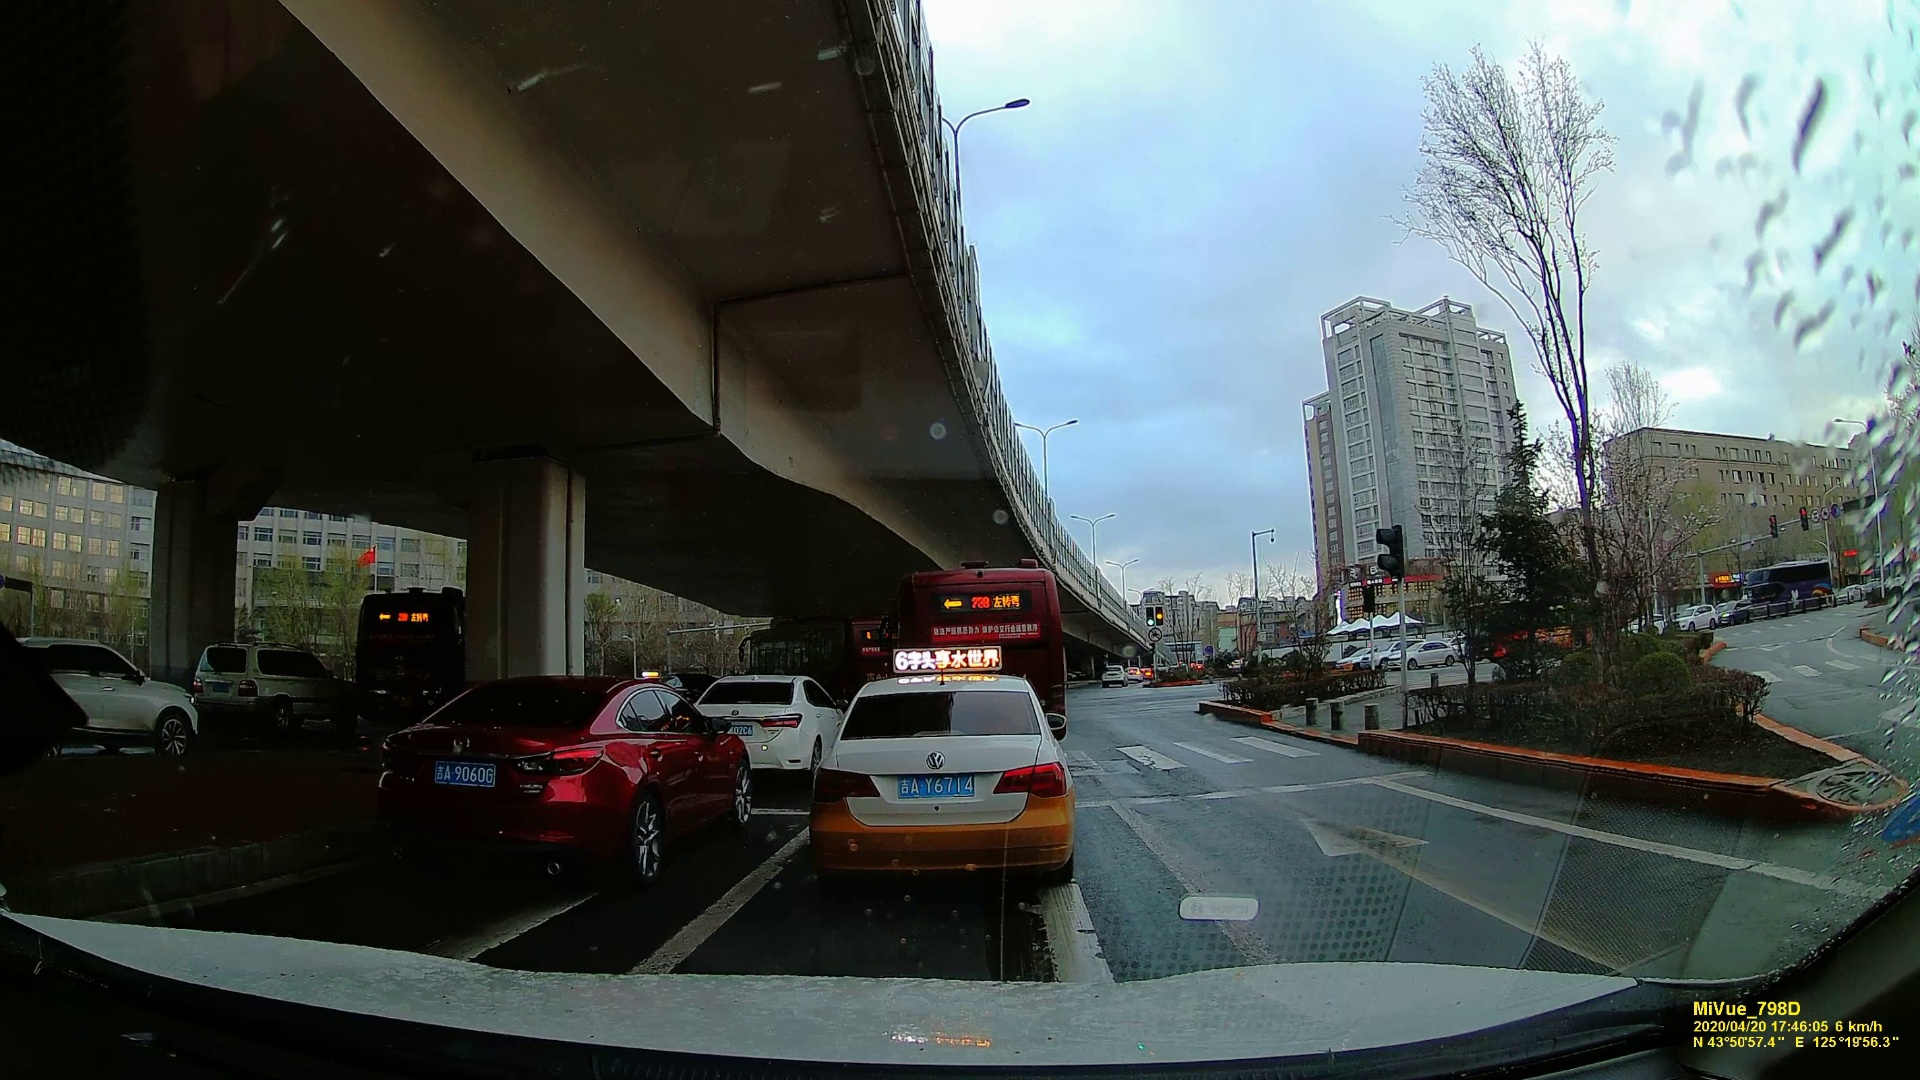bus: (889, 572, 1060, 727), (360, 597, 472, 720), (1747, 563, 1834, 604)
traffic_sign: (1379, 524, 1408, 574), (1153, 603, 1167, 629), (1767, 514, 1779, 541), (1797, 506, 1808, 531), (1811, 508, 1820, 524)
vehicle: (373, 674, 773, 876), (806, 671, 1083, 894), (29, 638, 200, 760), (679, 671, 833, 779), (1396, 640, 1465, 666), (1098, 666, 1134, 684)
